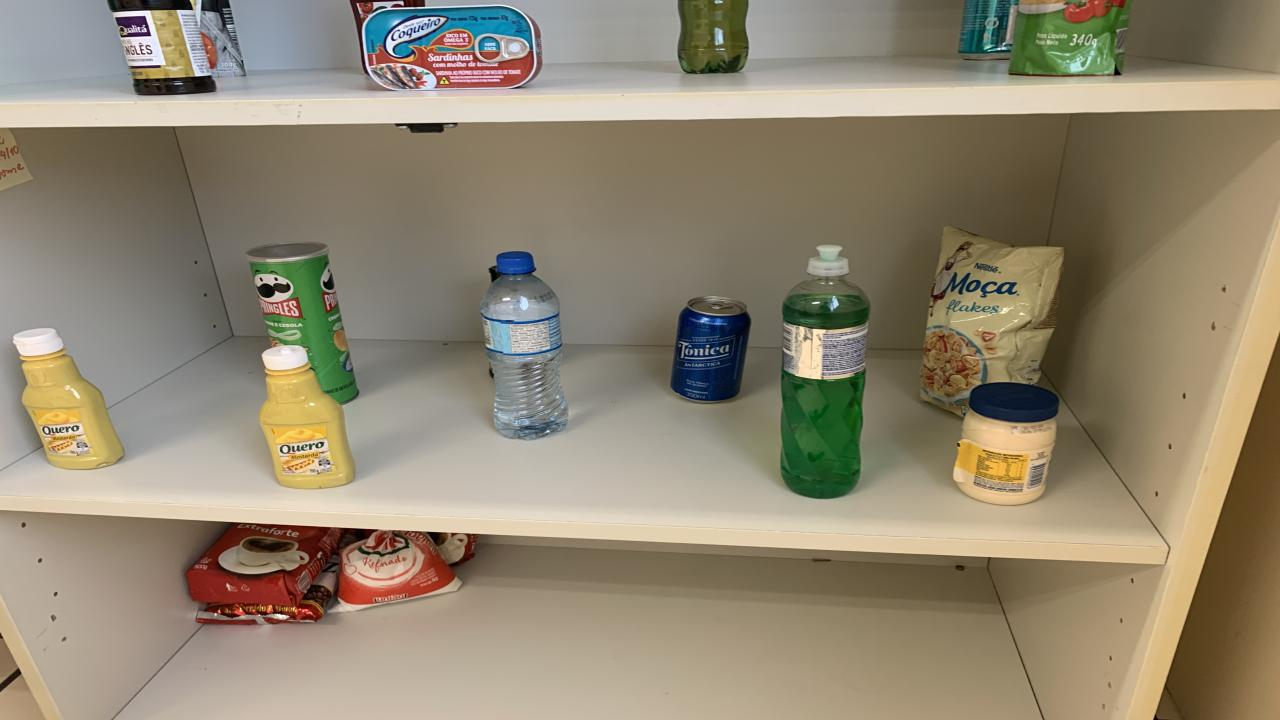Detergent-Cleanup_Items: (780, 246, 870, 499)
English_Sauce-Pantry_Items: (108, 0, 215, 96)
Flakes-Snacks: (920, 227, 1062, 414)
Guarana-Drinks: (678, 0, 750, 73)
Ketchup-Pantry_Items: (350, 0, 425, 34)
Mayonnaise-Pantry_Items: (952, 382, 1058, 506)
Mustard-Pantry_Items: (12, 330, 122, 469), (260, 345, 355, 489)
Pringles-Snacks: (248, 242, 358, 403)
Tea-Drinks: (958, 0, 1018, 60)
Tomato_Sauce-Pantry_Items: (1008, 0, 1132, 77), (195, 0, 245, 77)
Tonic-Drinks: (670, 296, 750, 403)
Tuna_Can-Pantry_Items: (360, 6, 542, 90)
Water_Bottle-Drinks: (480, 251, 568, 439)
